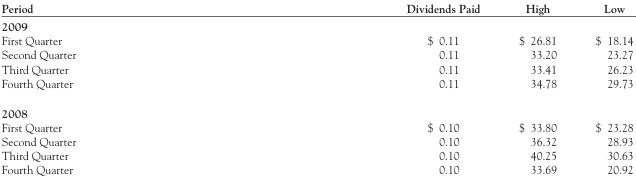table: (0, 0, 632, 175)
table column: (240, 0, 498, 175), (0, 0, 240, 175), (498, 0, 575, 175), (575, 0, 632, 175)
table column header: (0, 0, 632, 16)
table projected row header: (0, 97, 632, 119), (0, 16, 632, 32)
table row: (0, 75, 632, 97), (0, 97, 632, 119), (0, 0, 632, 16), (0, 16, 632, 32), (0, 46, 632, 61), (0, 32, 632, 46), (0, 61, 632, 75), (0, 119, 632, 133), (0, 133, 632, 147), (0, 147, 632, 161), (0, 161, 632, 175)
